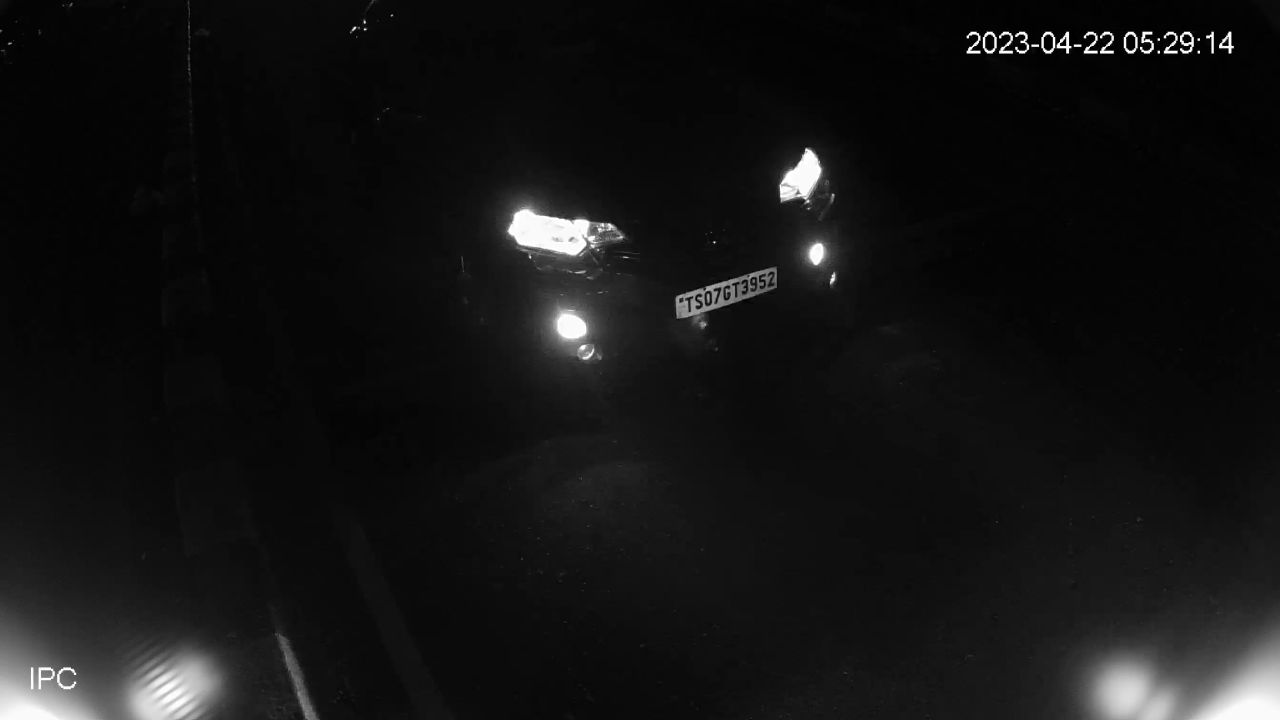license_plate: (669, 263, 782, 322)
